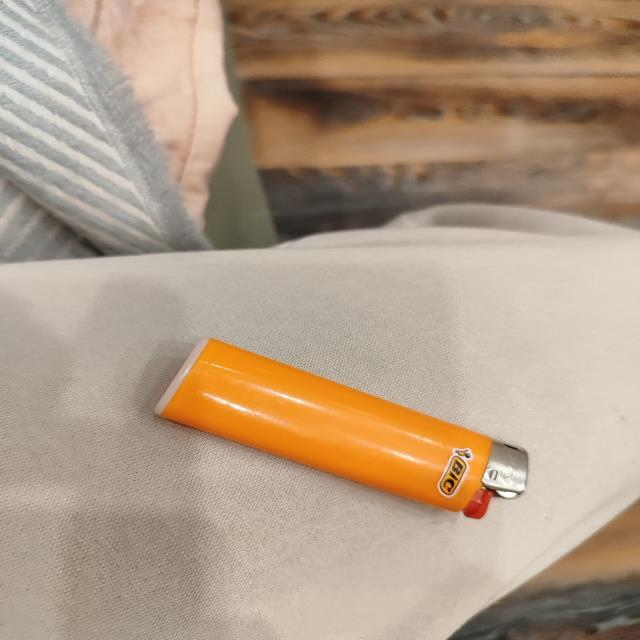lighter: (155, 339, 528, 517)
